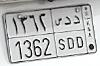D: (74, 15, 84, 48), (65, 16, 75, 49)
S: (54, 17, 65, 52)
